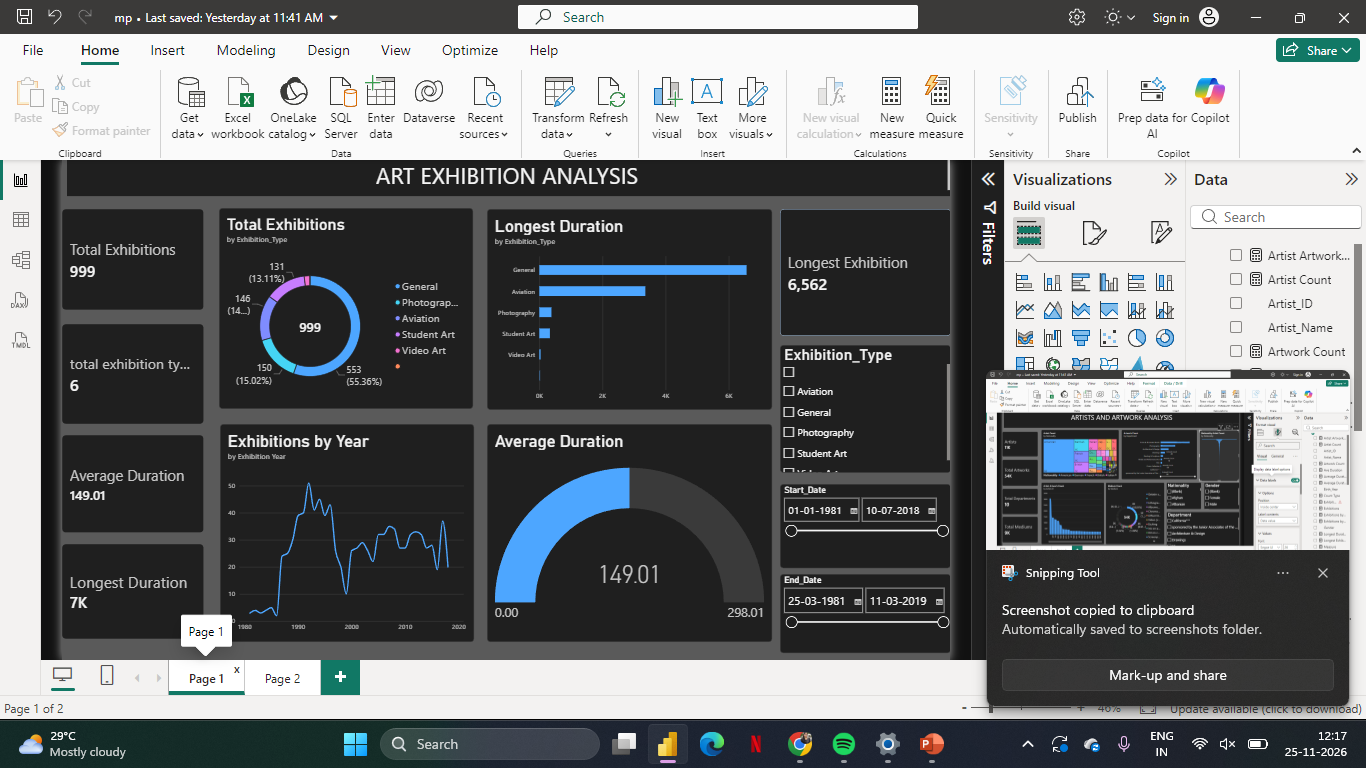

What the dashboard file says about the page in this screenshot:
{"tool":"powerbi","page":{"name":"Page 1","canvas":[1920,1080],"ordinal":0},"visuals":[{"type":"textbox","box":[10.1,0,1909.9,78.1],"z":0},{"type":"cardVisual","fields":{"Data":["artexhibitiondb artist.Total Exhibitions"]},"box":[0,106.7,306.7,218.2],"z":1000},{"type":"cardVisual","fields":{"Data":["artexhibitiondb artist.total exhibition types"]},"box":[0,354.2,306.7,216],"z":2000},{"type":"cardVisual","fields":{"Data":["artexhibitiondb artist.Average Duration"]},"box":[0,594,306.7,211.7],"z":3000},{"type":"cardVisual","fields":{"Data":["artexhibitiondb artist.Longest Duration"]},"box":[0,829.4,306.7,205.2],"z":4000},{"type":"donutChart","fields":{"Category":["artexhibitiondb exhibition.Exhibition_Type"],"Y":["artexhibitiondb artist.Total Exhibitions"]},"box":[340,104.4,548.6,434.2],"z":5000},{"type":"clusteredBarChart","fields":{"Category":["artexhibitiondb exhibition.Exhibition_Type"],"Y":["artexhibitiondb artist.Longest Duration"]},"box":[918,105.8,615.6,434.2],"z":6000},{"type":"lineChart","fields":{"Category":["artexhibitiondb exhibition.Exhibition Year"],"Y":["artexhibitiondb artist.Exhibitions by Year"]},"box":[341.3,570.2,548.6,470.9],"z":7000},{"type":"cardVisual","fields":{"Data":["artexhibitiondb artist.Longest Exhibition"]},"box":[1550.9,105.8,369.4,274.3],"z":8000},{"type":"gauge","fields":{"Y":["artexhibitiondb artist.Average Duration"]},"box":[917.8,571.1,615.6,470.9],"z":9000},{"type":"slicer","fields":{"Values":["artexhibitiondb exhibition.Exhibition_Type"]},"box":[1550.9,399.6,369.4,276.5],"z":10000},{"type":"slicer","fields":{"Values":["artexhibitiondb exhibition.Start_Date"]},"box":[1550.9,699.8,368.9,182.2],"z":11000},{"type":"slicer","fields":{"Values":["artexhibitiondb exhibition.End_Date"]},"box":[1550.9,894.2,369.4,170.6],"z":12000}]}

Visuals, with their boxes on the page's 1920x1080 design canvas (x1, y1, x2, y2). These are canvas units, not pixel positions in the 1366x768 screenshot, which may show the page scaled, cropped or inside an application window:
textbox: box(10, 0, 1920, 78)
cardVisual - artexhibitiondb artist.Total Exhibitions: box(0, 107, 307, 325)
cardVisual - artexhibitiondb artist.total exhibition types: box(0, 354, 307, 570)
cardVisual - artexhibitiondb artist.Average Duration: box(0, 594, 307, 806)
cardVisual - artexhibitiondb artist.Longest Duration: box(0, 829, 307, 1035)
donutChart - artexhibitiondb exhibition.Exhibition_Type x artexhibitiondb artist.Total Exhibitions: box(340, 104, 889, 539)
clusteredBarChart - artexhibitiondb exhibition.Exhibition_Type x artexhibitiondb artist.Longest Duration: box(918, 106, 1534, 540)
lineChart - artexhibitiondb exhibition.Exhibition Year x artexhibitiondb artist.Exhibitions by Year: box(341, 570, 890, 1041)
cardVisual - artexhibitiondb artist.Longest Exhibition: box(1551, 106, 1920, 380)
gauge - artexhibitiondb artist.Average Duration: box(918, 571, 1533, 1042)
slicer - artexhibitiondb exhibition.Exhibition_Type: box(1551, 400, 1920, 676)
slicer - artexhibitiondb exhibition.Start_Date: box(1551, 700, 1920, 882)
slicer - artexhibitiondb exhibition.End_Date: box(1551, 894, 1920, 1065)
